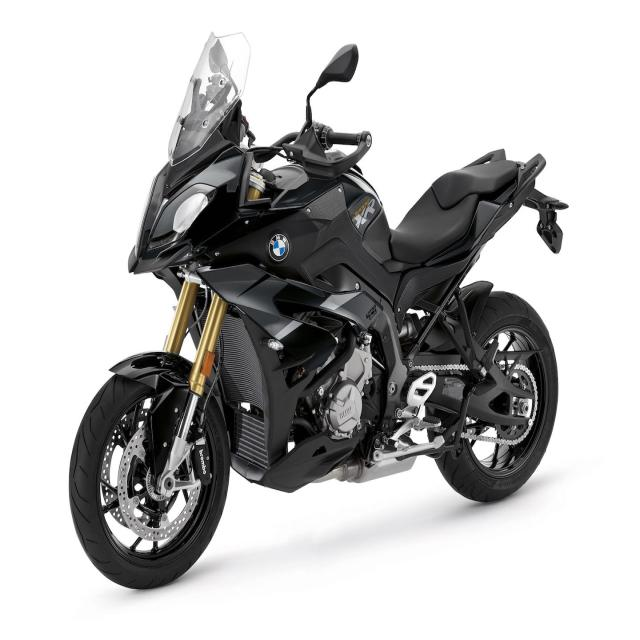Motorcycle: (70, 34, 567, 589)
